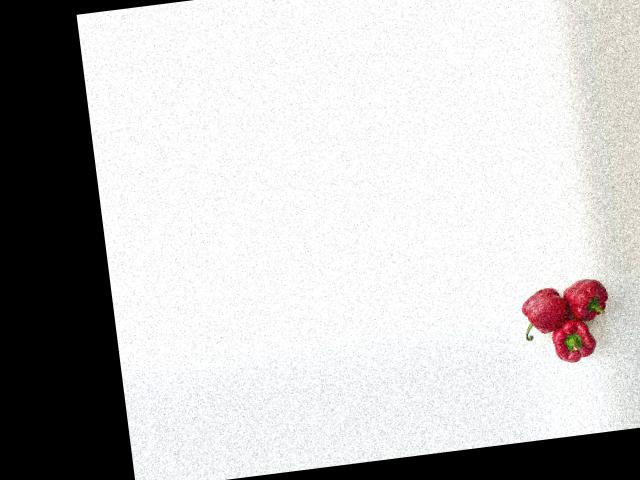bell_pepper: (509, 284, 568, 345)
